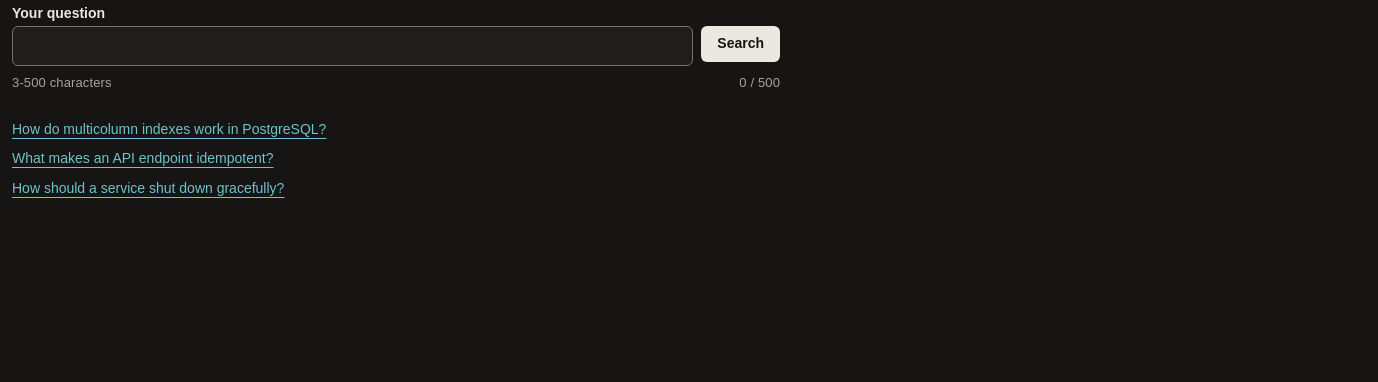
limits and off › Retry-After over 120 s shows a clock time and no ticker; the interval is cleared on unmount
Later steps or results of the test are not shown.
Type "a question" into the search field labelled "Your question" at (353, 46), box [12,26,693,66]
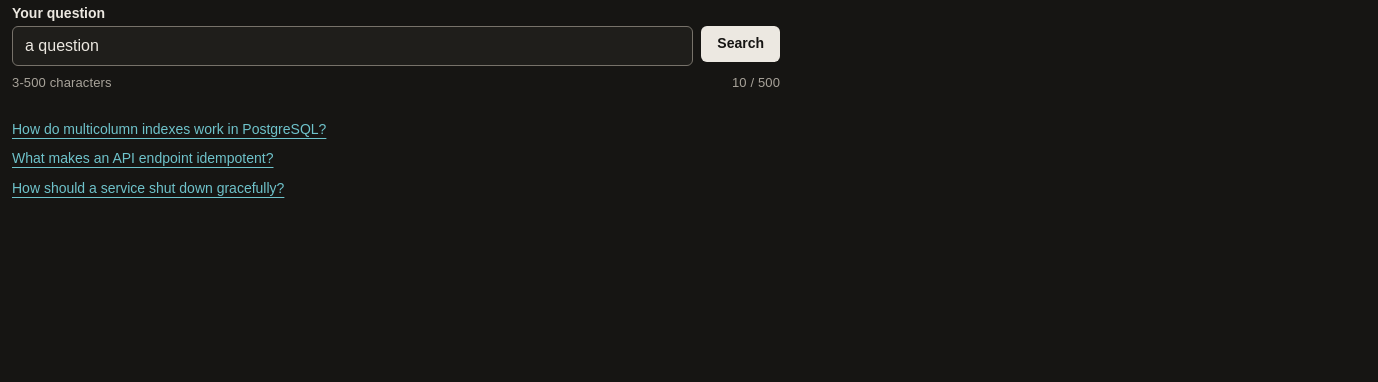
Click the button "Search" at (741, 44), box [701,26,780,62]
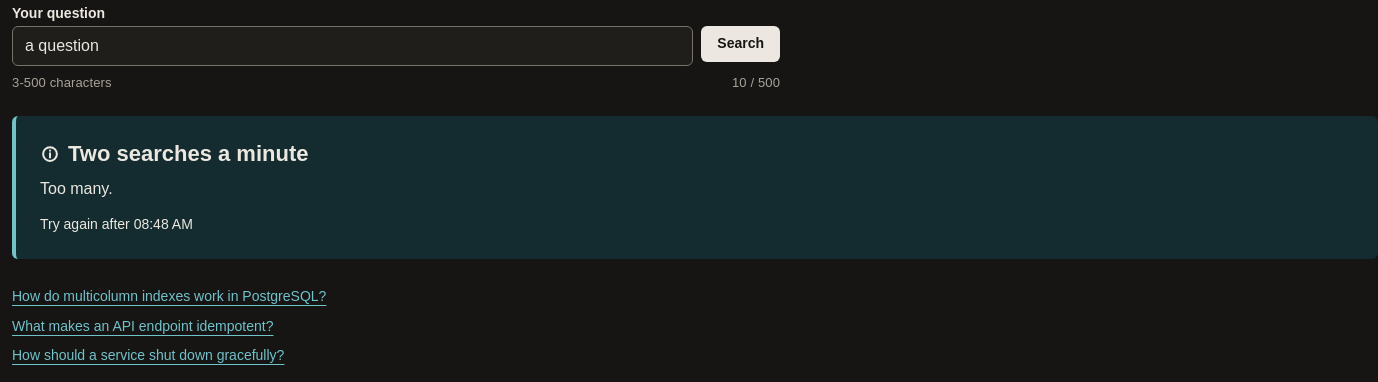
Expected: the text "Try again after 08:48 AM" is shown, [40,216,193,232]
